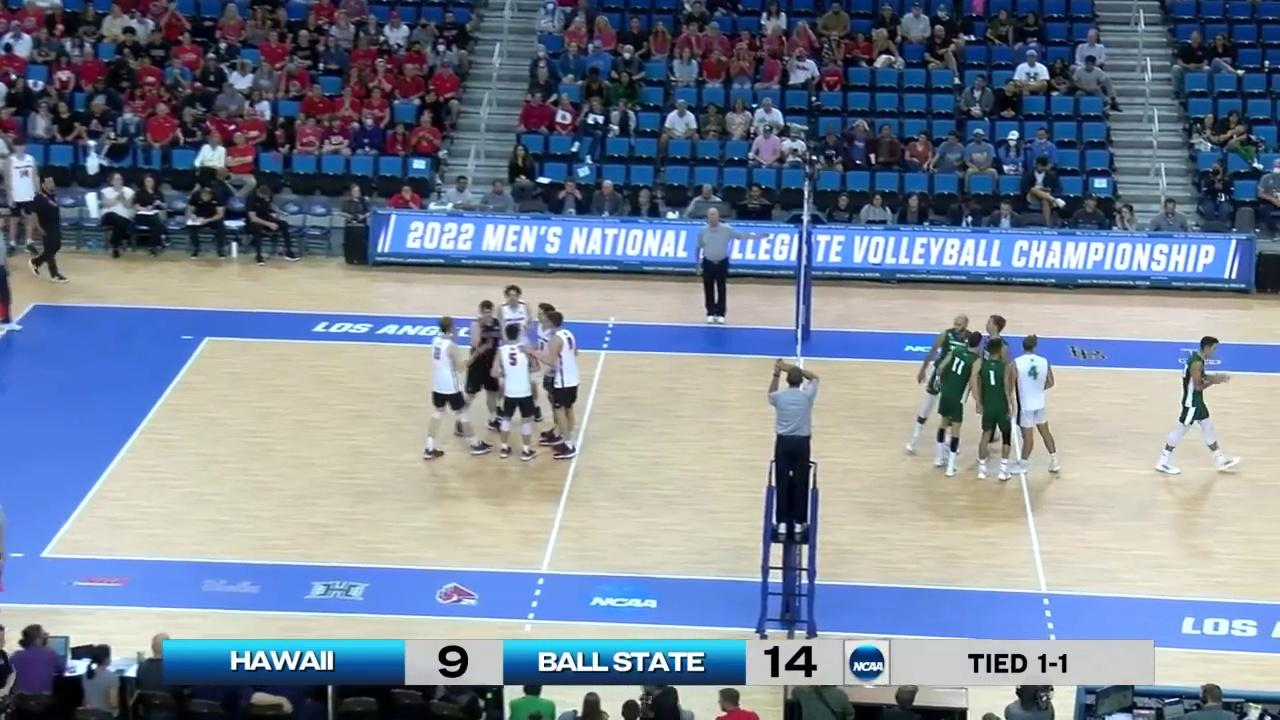player: (1153, 340, 1233, 474), (421, 315, 484, 459), (917, 314, 978, 458), (1007, 334, 1055, 479), (934, 333, 982, 477), (972, 334, 1017, 487), (541, 312, 581, 462), (461, 301, 505, 434), (500, 325, 538, 461), (496, 285, 534, 418), (981, 313, 1015, 458), (536, 303, 569, 444)
refree: (758, 359, 811, 531), (698, 209, 736, 322)
